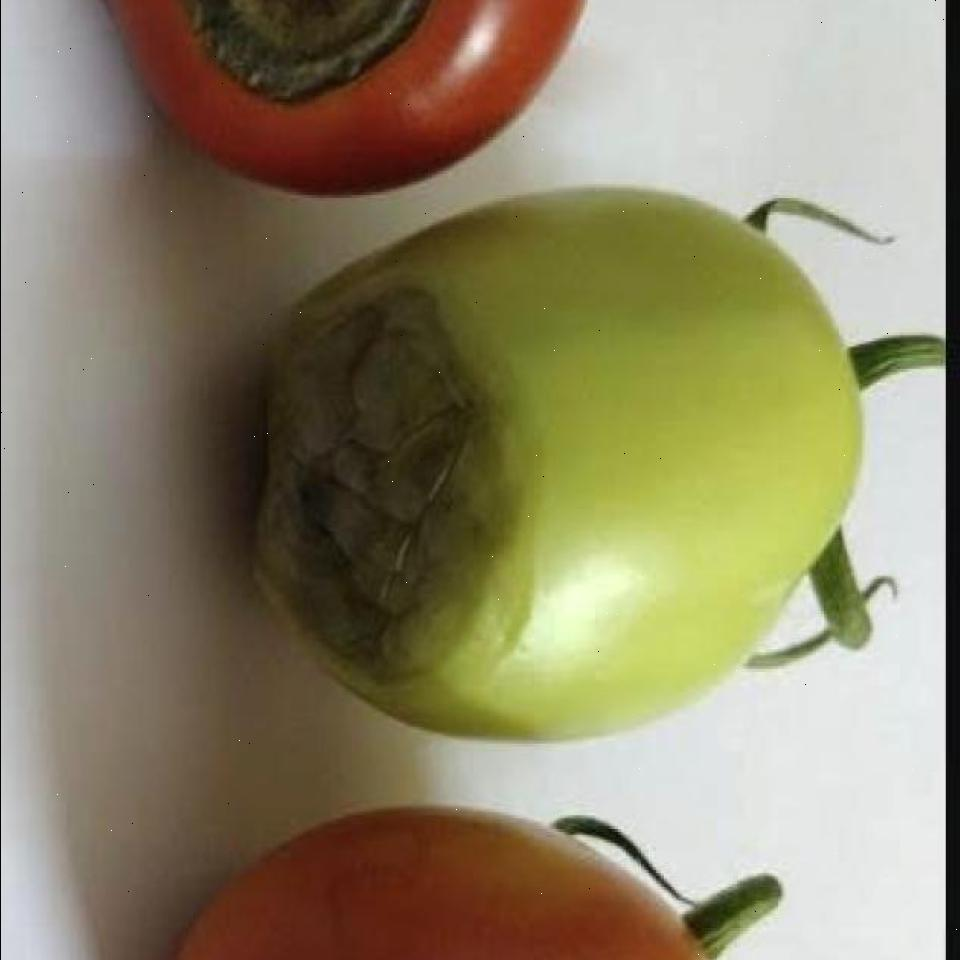Blossom_end_rot: (255, 283, 534, 695), (176, 0, 434, 116)
